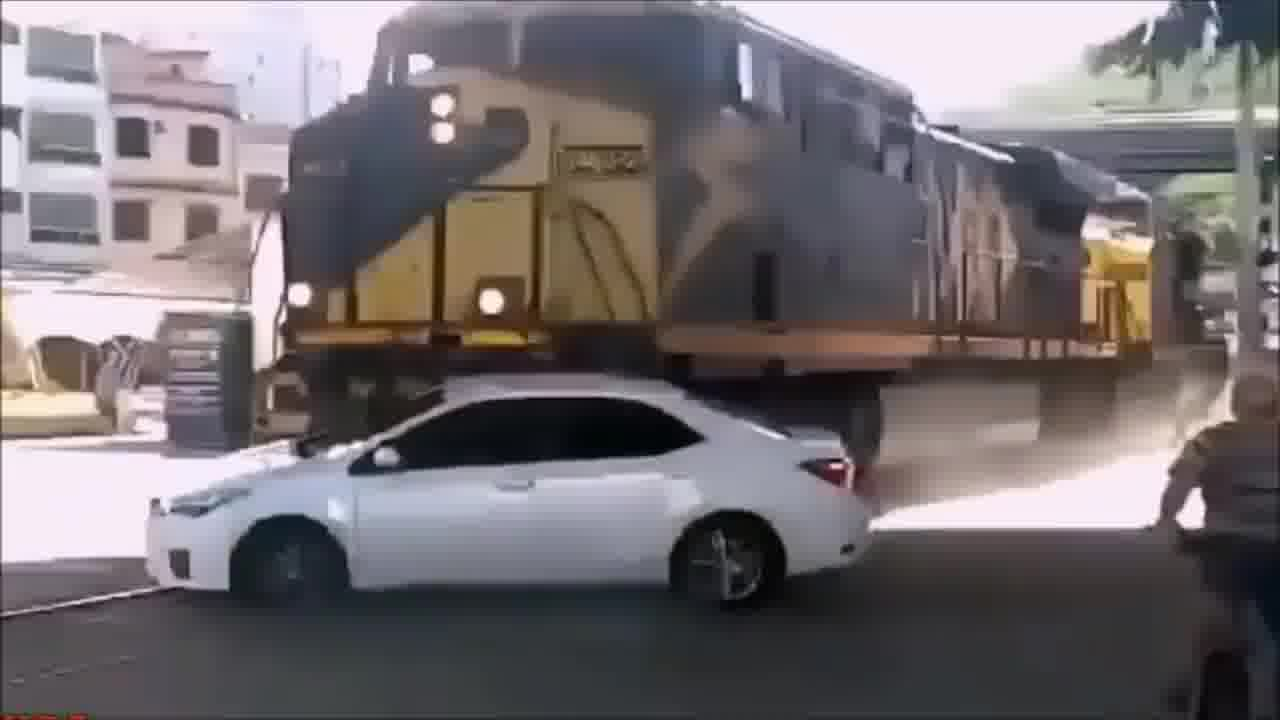crossing railway track: (137, 313, 934, 626)
